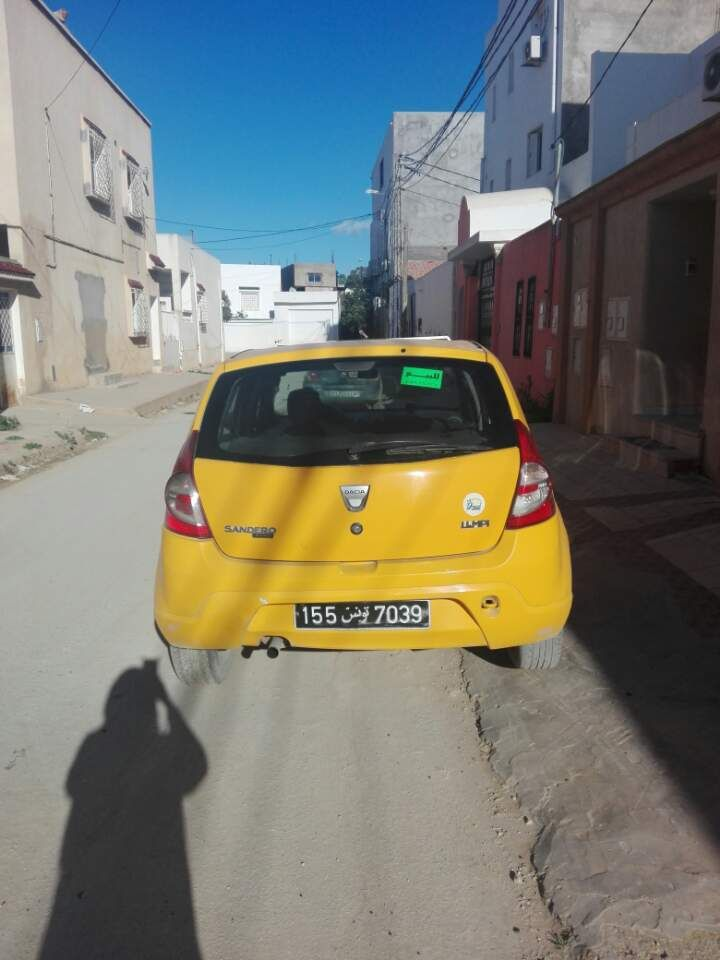LP: (293, 599, 432, 628)
